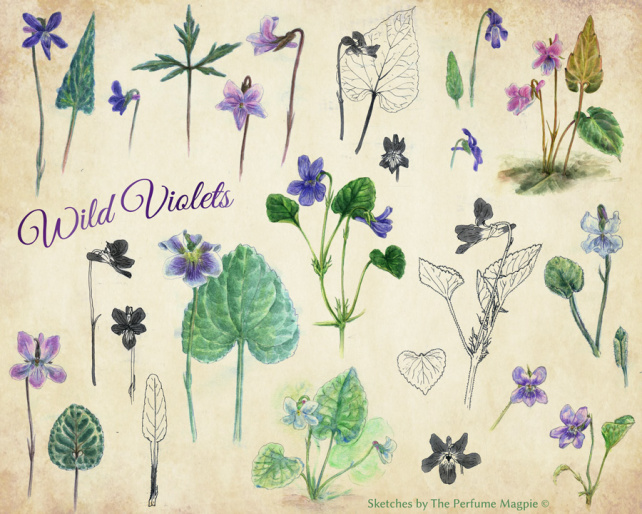violet: (152, 226, 233, 290), (11, 331, 72, 392), (212, 74, 274, 131), (244, 17, 304, 62), (18, 10, 69, 58), (550, 401, 597, 452), (286, 154, 331, 207), (474, 12, 520, 58), (509, 361, 552, 409), (525, 36, 574, 78), (97, 79, 133, 117), (504, 79, 535, 118), (458, 129, 486, 168)
